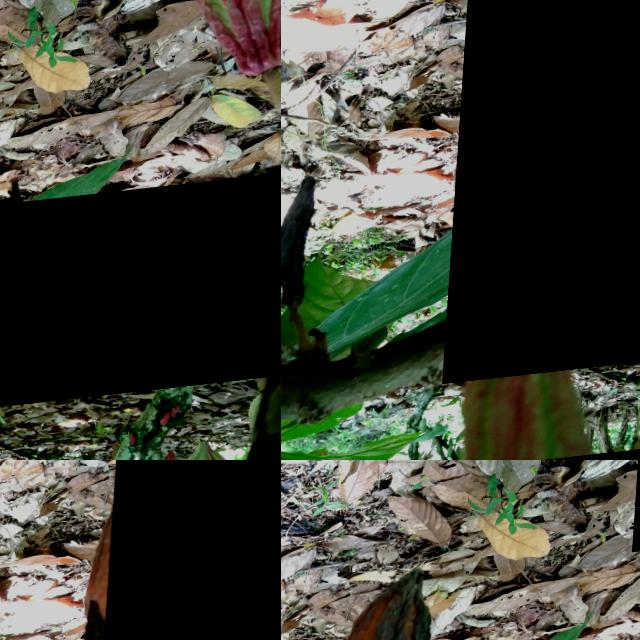Fitoftora: (96, 460, 281, 640), (306, 570, 444, 640)
Monilia: (450, 0, 640, 388), (0, 187, 281, 436)
